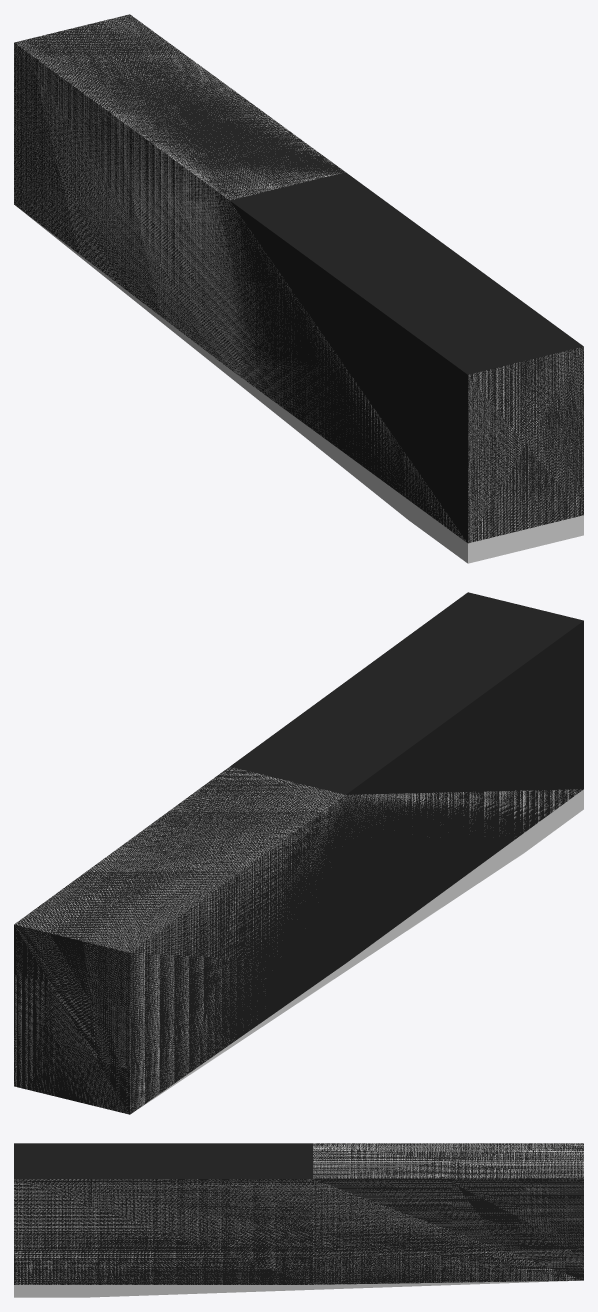
The model's file is trailer.glb.
The picture shows the model from 3 angles, top to bottom: view 1: azimuth 30°, elevation 25°; view 2: azimuth 150°, elevation 25°; view 3: azimuth 270°, elevation 25°; orthographic projection. The views are drawn at different scales.
Visible parts, largest first — view 1: vehicles/trailer, COL_hull; view 2: vehicles/trailer, COL_hull; view 3: vehicles/trailer, COL_hull.
Part boxes in pixels (<box>): vehicles/trailer: <box>14,14,583,543</box>; COL_hull: <box>14,15,583,563</box>; vehicles/trailer: <box>14,592,583,1114</box>; COL_hull: <box>14,767,583,1113</box>; vehicles/trailer: <box>14,1143,583,1284</box>; COL_hull: <box>14,1143,583,1297</box>.
Bounding box in the file's own units: 2.25 × 3.5 × 15.25.
Materials: 1 (1 with a texture image).
